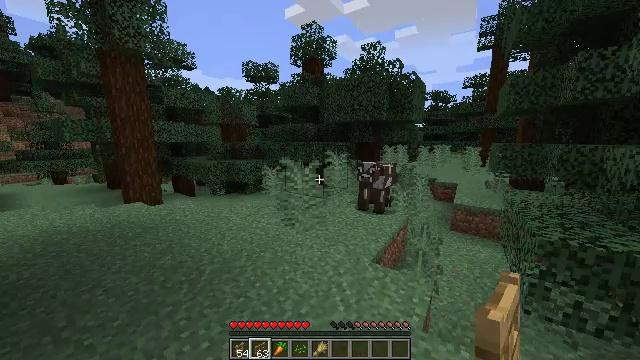cow: (359, 161, 394, 214)
